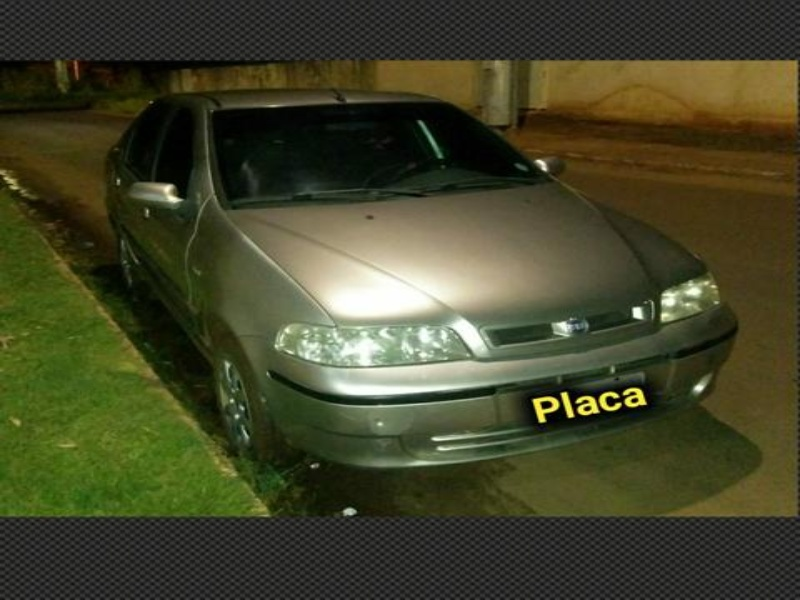ruim: (621, 281, 789, 502)
